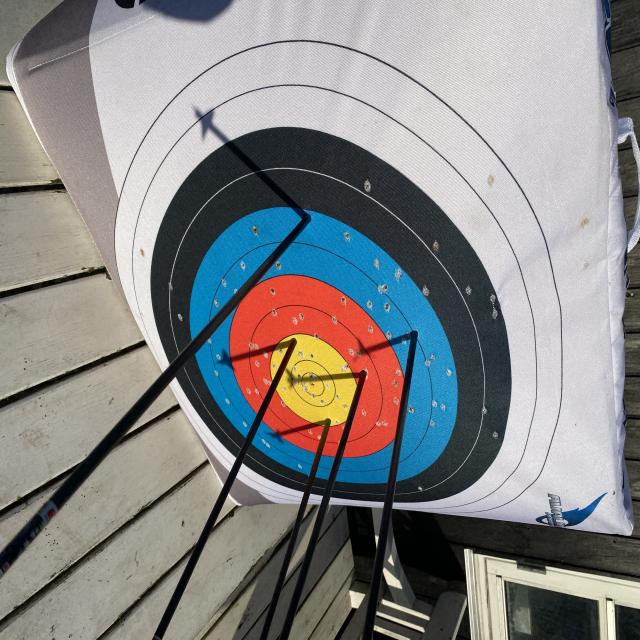Arrow_Blue: (398, 317, 436, 361), (292, 198, 326, 244)
Arrow_Red: (348, 357, 378, 387)
Arrow_Yellow: (276, 332, 310, 366), (321, 408, 339, 439)
